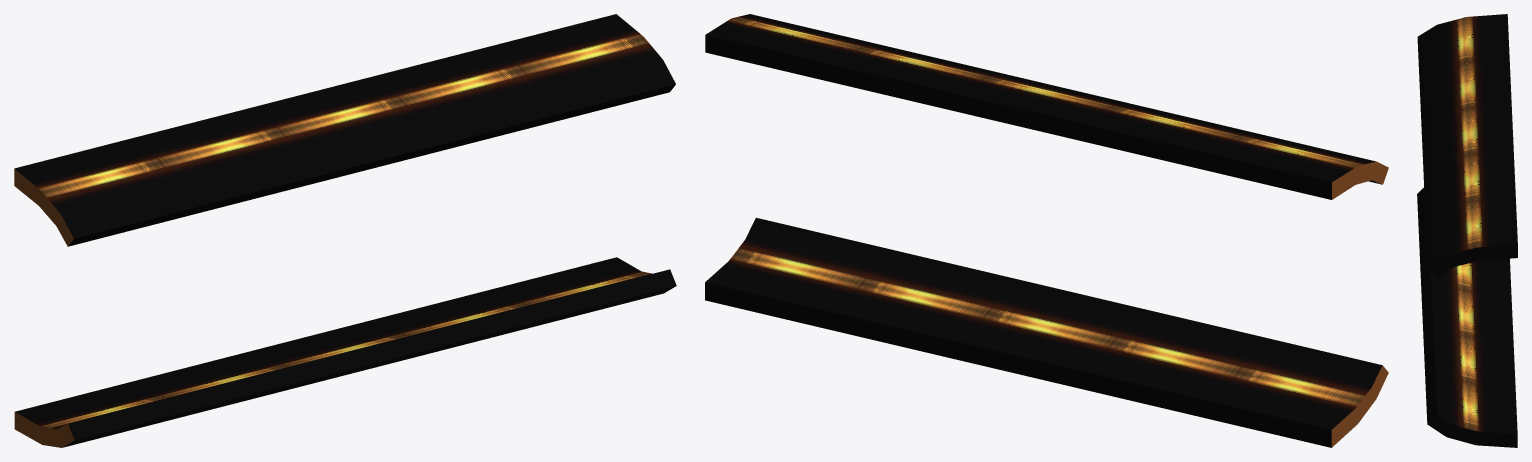
File: SAMRTrack-17_rail (5).fbx
3 renders of one model, left to right at view 1: azimuth 30°, elevation 25°; view 2: azimuth 150°, elevation 25°; view 3: azimuth 270°, elevation 25°, orthographic. The views are drawn at different scales.
Visible parts, largest first — view 1: SAMRTrack-17_rail (5); view 2: SAMRTrack-17_rail (5); view 3: SAMRTrack-17_rail (5).
Boxes of the visible parts, box(x1,y1,x2,y2) form: SAMRTrack-17_rail (5): box(14, 14, 676, 447); SAMRTrack-17_rail (5): box(705, 14, 1388, 447); SAMRTrack-17_rail (5): box(1417, 14, 1517, 447).
Size of the model in its own units: 7063 by 2895 by 1296.
Materials: 2 (2 with a texture image).
